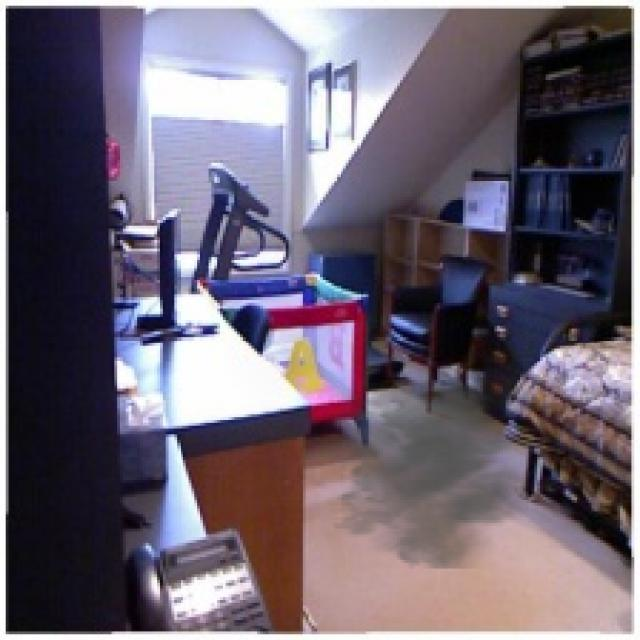Smoke: (312, 368, 528, 568)
